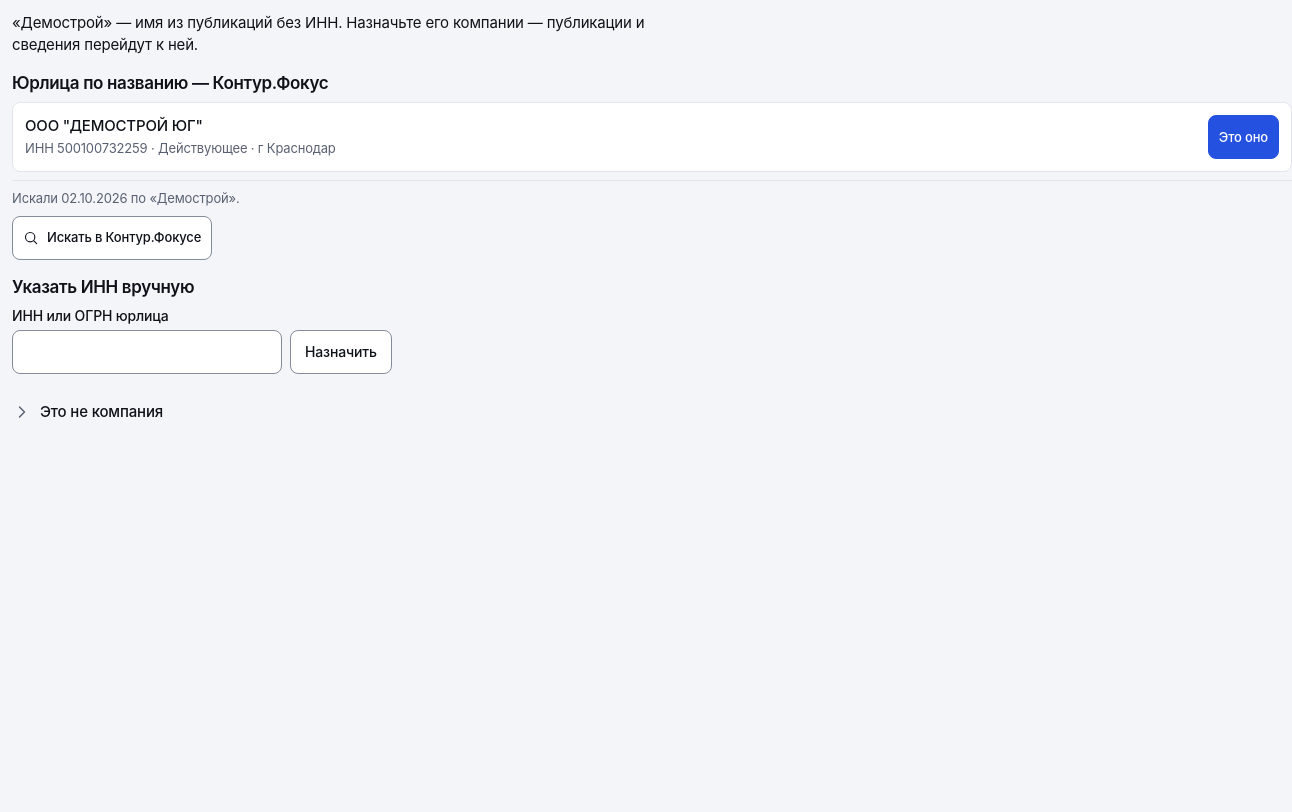
Scenario: назначение имени без ИНН › реквизит уже у другой компании — сказано у какой, открывается слияние с ней
The image size is (1292, 812).
Type "7707083893" into the field labelled "ИНН или ОГРН юрлица" at (147, 352), box [12,330,282,374]
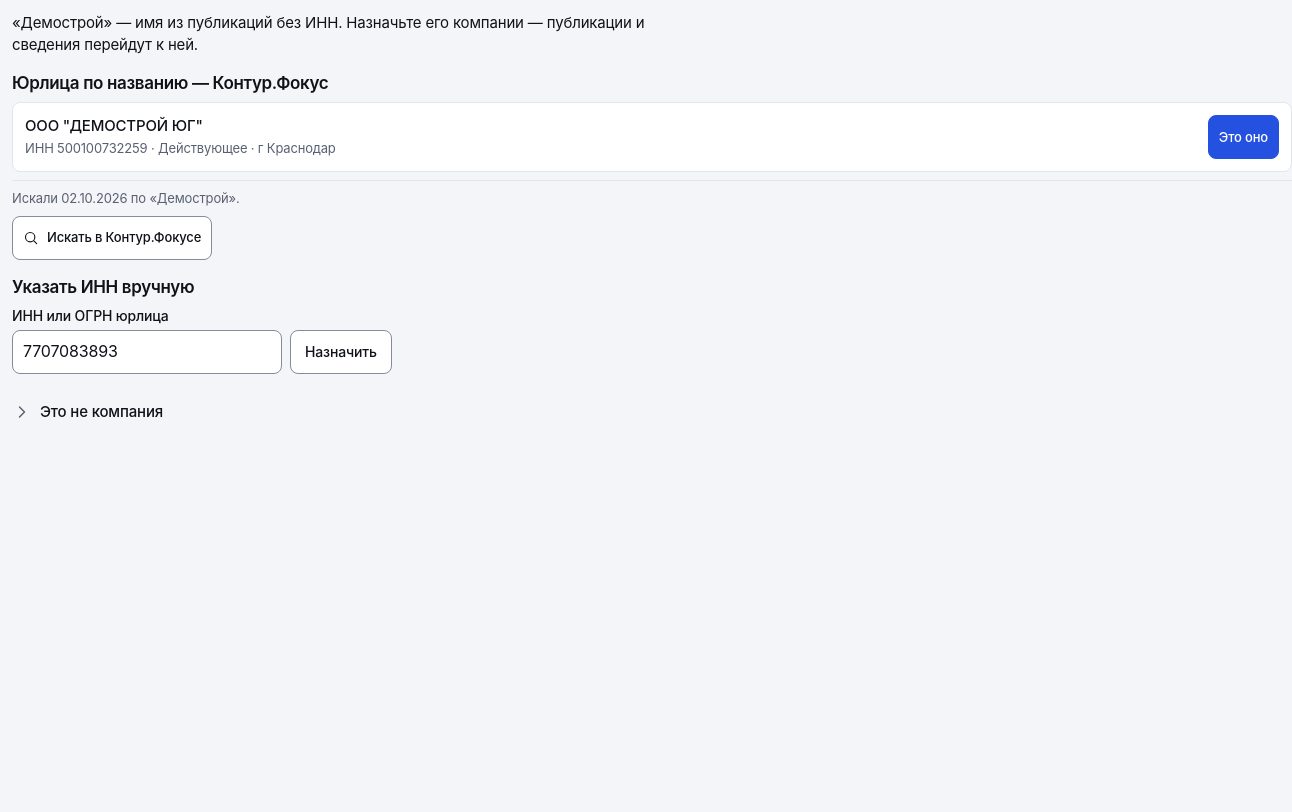
Click the button "Назначить" at (341, 352), box [290,330,392,374]
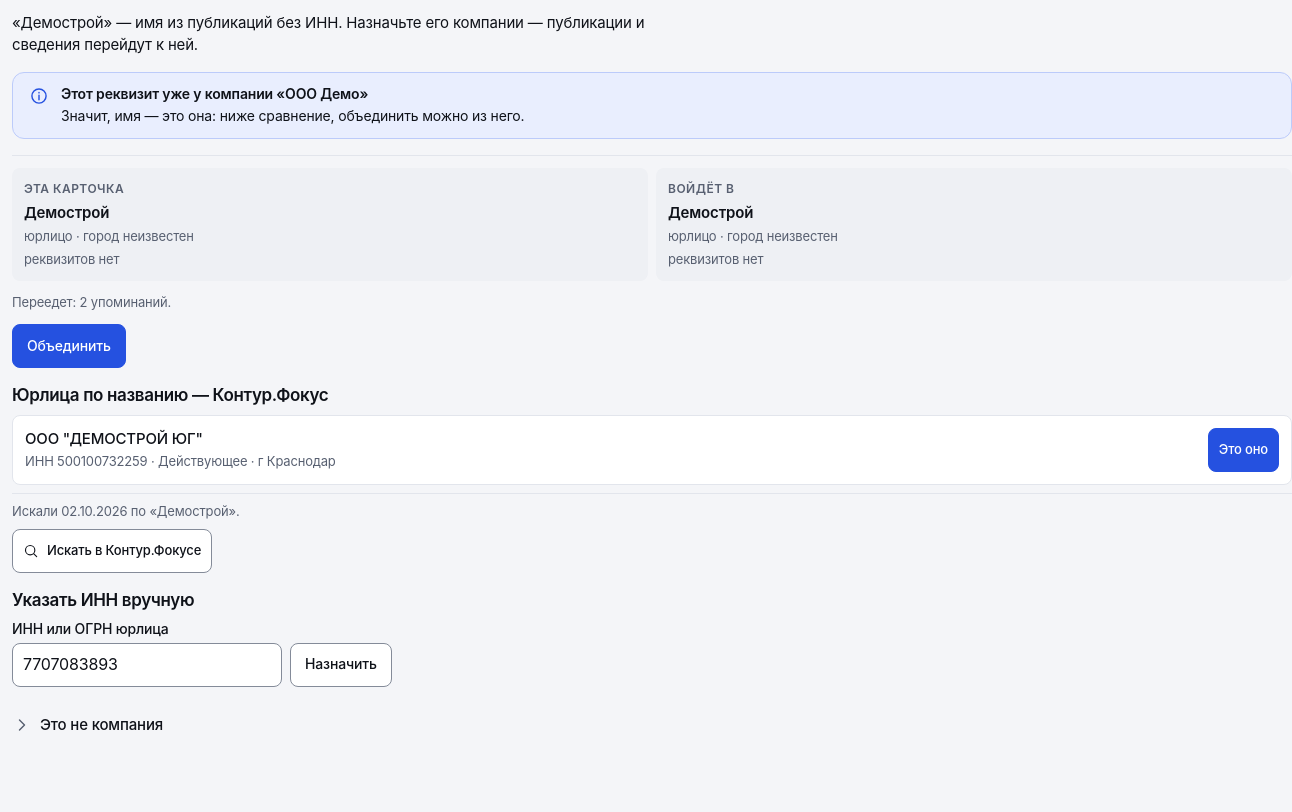
Expected: the text "Этот реквизит уже у компании «ООО Демо»" is shown, [61,84,368,102]
Expected: the button "Объединить" is shown, [12,324,126,368]
